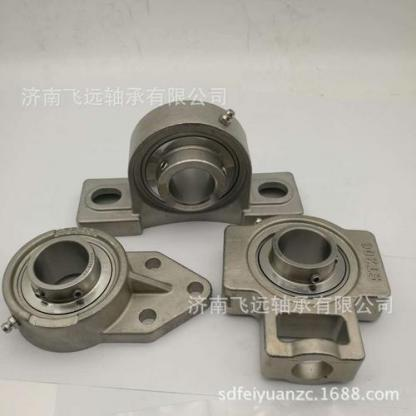FOD: (9, 229, 122, 321)
